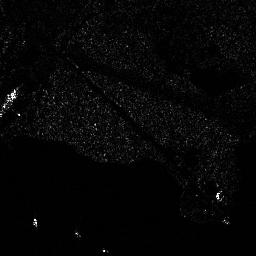ship: (1, 85, 19, 118)
